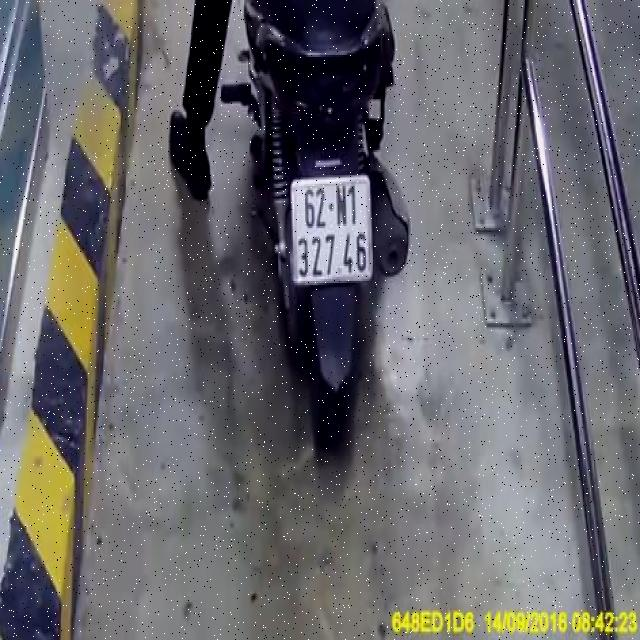1: (348, 182, 357, 225)
2: (311, 236, 323, 274), (315, 187, 326, 227)
3: (298, 234, 309, 282)
4: (342, 232, 353, 274)
6: (355, 232, 367, 272), (304, 188, 315, 227)
7: (326, 232, 337, 276)
N: (335, 184, 348, 228)
